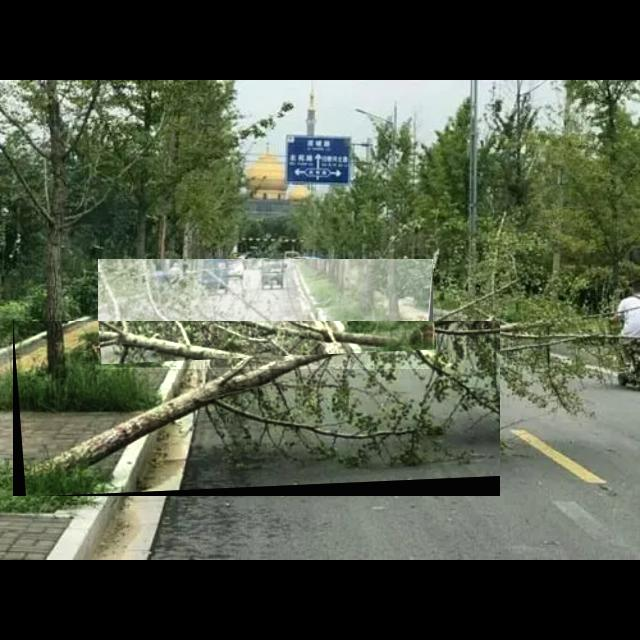Fallen Tree: (13, 321, 501, 497), (98, 259, 434, 369)
